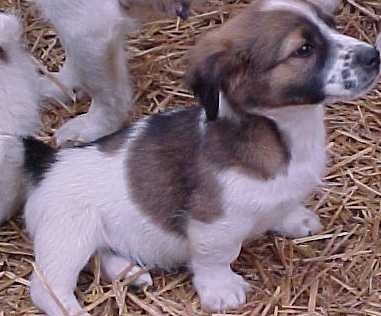dog: (54, 0, 381, 316)
